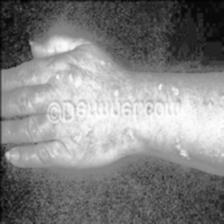Unclassified: (9, 74, 224, 101), (60, 119, 224, 148)
